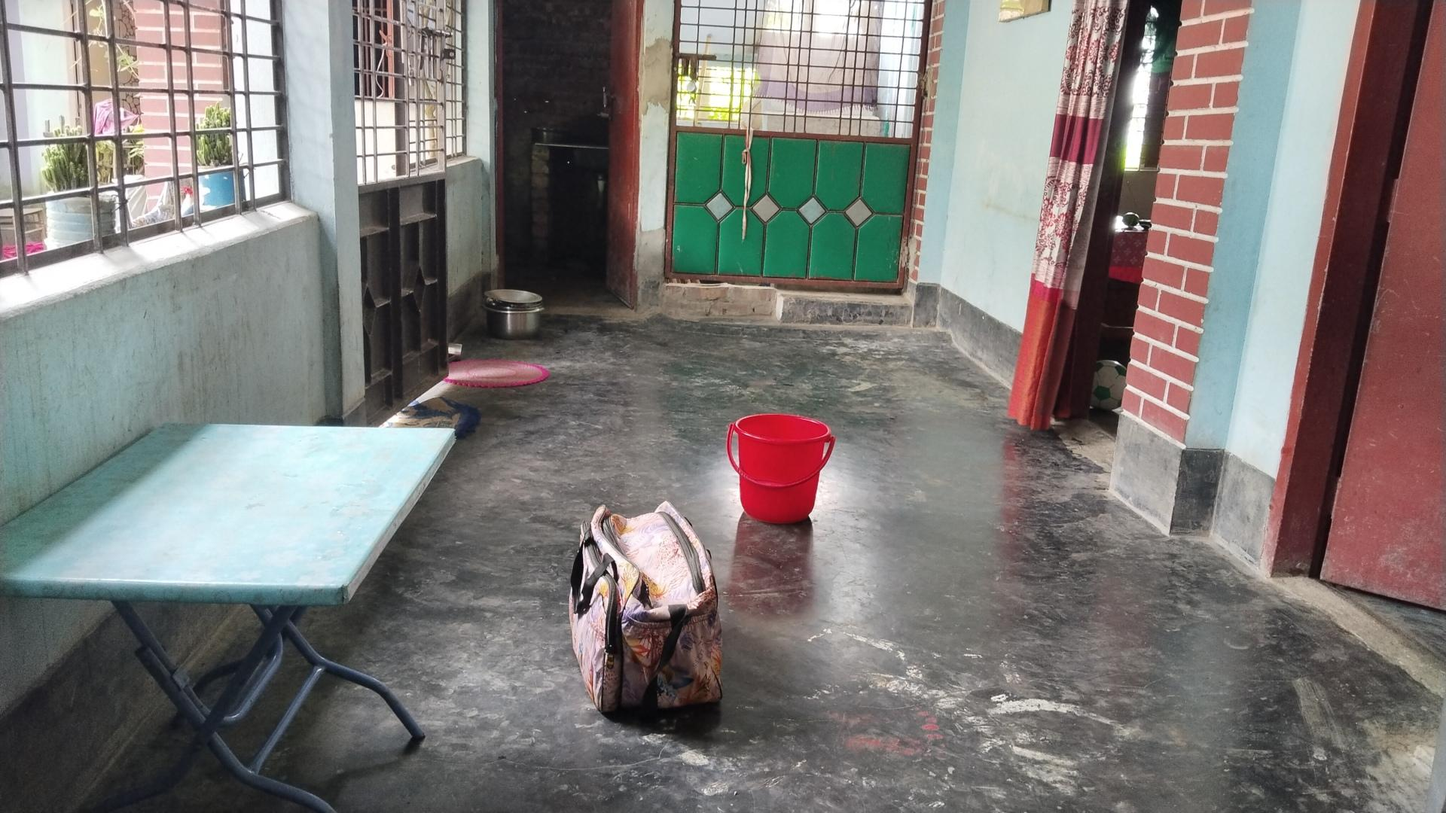Bag: (578, 515, 721, 719)
Bucket: (735, 413, 823, 522)
Door: (678, 0, 925, 293), (499, 1, 636, 302)
Table: (0, 418, 468, 813)
